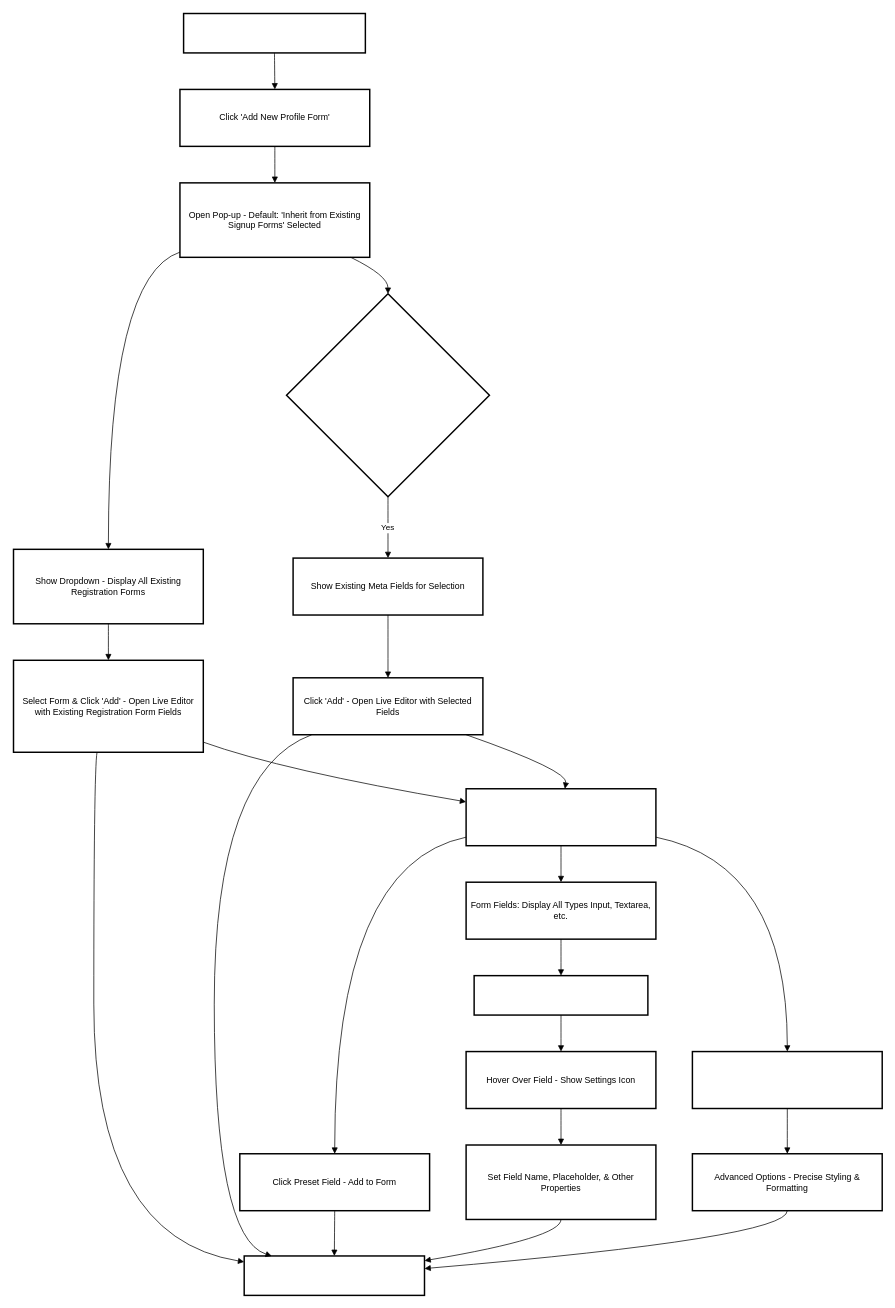
The diagram is 895 pixels wide and 1308 high, and some of its shapes have lost their labels. Each missing label, with the box of its shape:
Click 'Save' - Save Settings: (243, 1255, 425, 1296)
Click Field - Add to Form: (473, 975, 648, 1015)
Is 'Select Template' Chosen Instead?: (285, 293, 490, 497)
Left Menu: Display Preset Fields: (465, 788, 656, 846)
Navigate to Manage Forms: (182, 12, 366, 53)
Right Side: Basic Options - Styling & Formatting: (691, 1050, 883, 1109)
